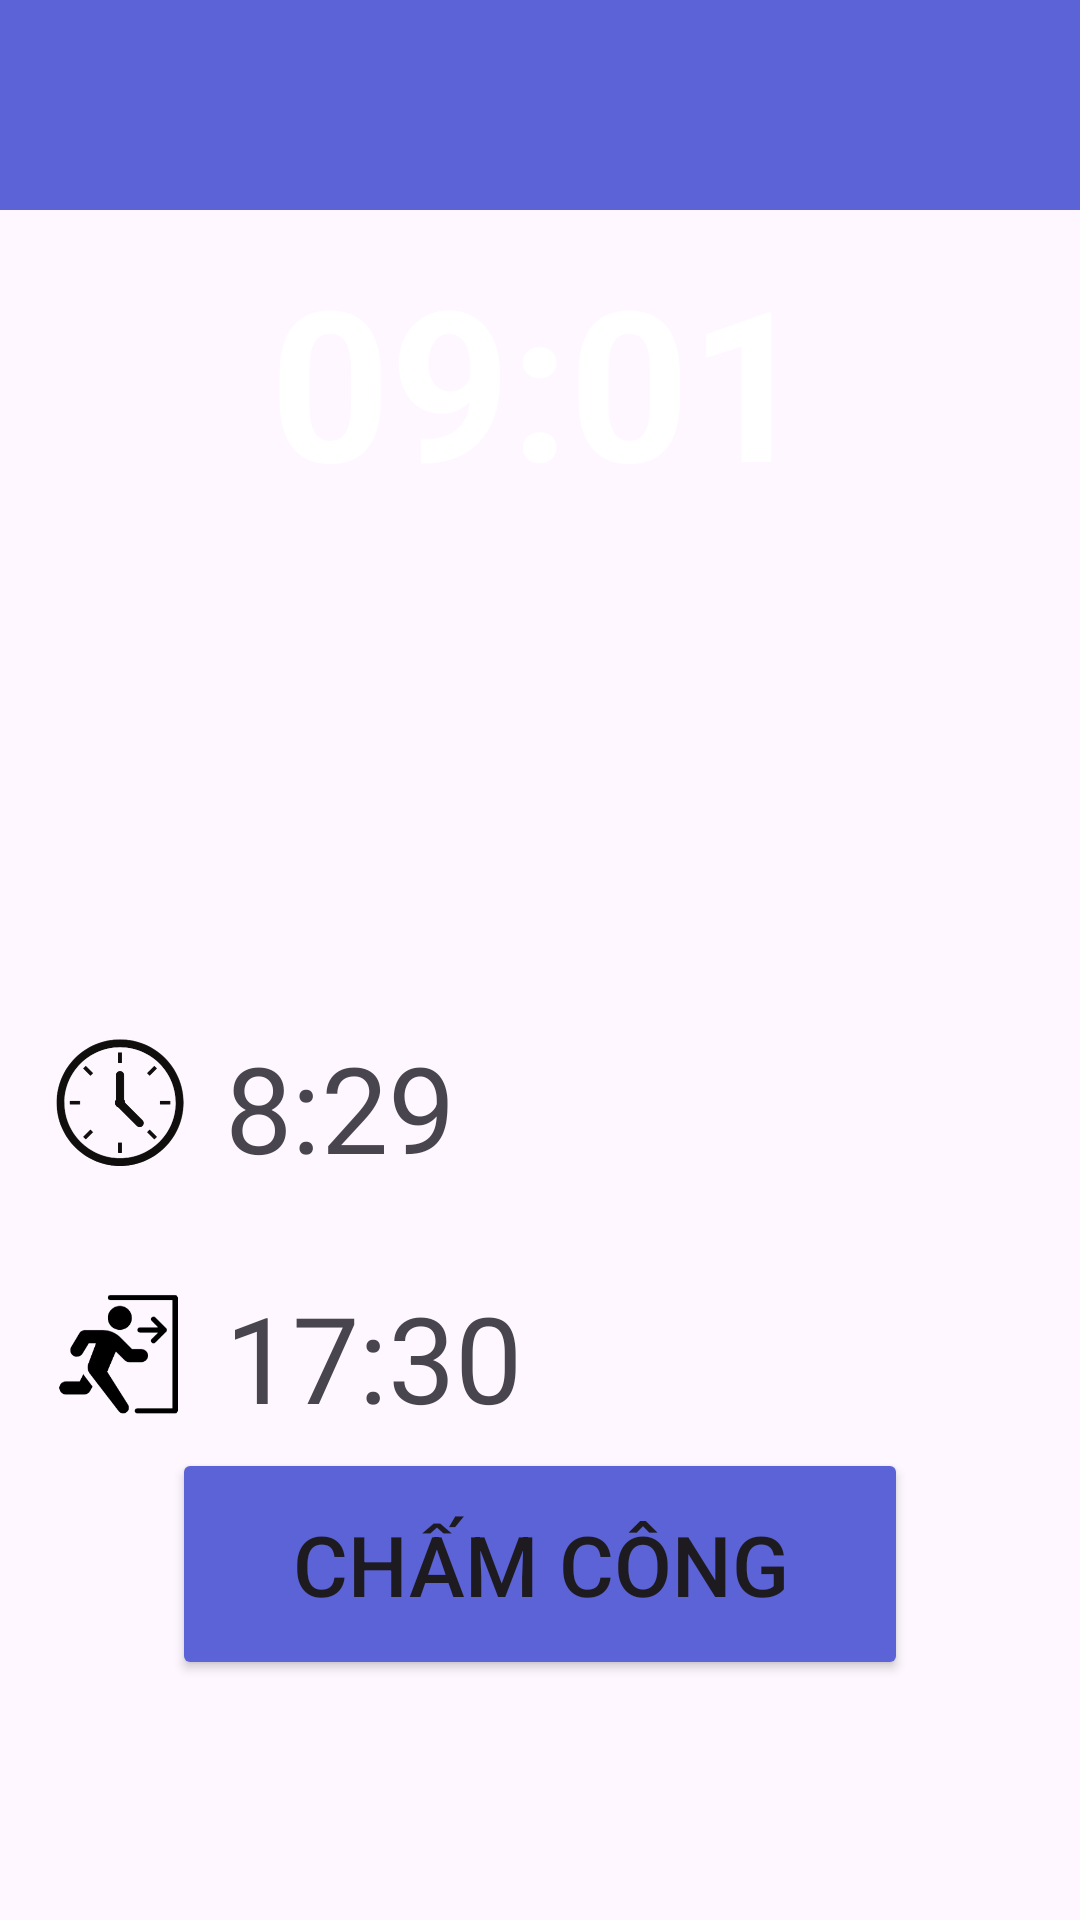

Point at icon controls on the screen. Image size 1080x1920, points as [x,y].
clock: [120,1102]
clock out: [118,1354]
